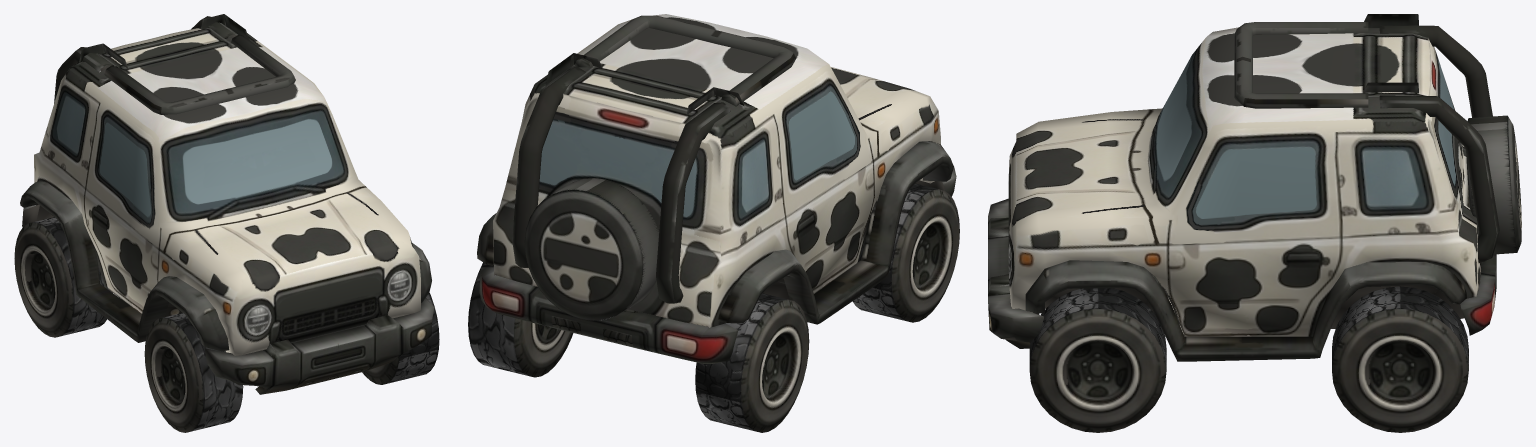
The model's file is Bowler_bulldog.glb.
3 views of the same model, side by side, from view 1: azimuth 30°, elevation 25°; view 2: azimuth 150°, elevation 25°; view 3: azimuth 270°, elevation 25° (orthographic). The views are drawn at different scales.
Visible parts, largest first — view 1: Bowler_buldog_car_body, Front_right, Back_right, Front_left; view 2: Bowler_buldog_car_body, Back_right, Front_right, Back_left; view 3: Bowler_buldog_car_body, Back_left, Front_left.
Part boxes in pixels (<box>): Bowler_buldog_car_body: <box>20,14,434,394</box>; Front_right: <box>144,313,243,432</box>; Back_right: <box>14,217,112,337</box>; Front_left: <box>362,292,439,384</box>; Bowler_buldog_car_body: <box>477,14,956,363</box>; Back_right: <box>695,293,809,432</box>; Front_right: <box>852,183,959,322</box>; Back_left: <box>468,262,573,377</box>; Bowler_buldog_car_body: <box>988,14,1521,361</box>; Back_left: <box>1332,286,1468,432</box>; Front_left: <box>1029,288,1166,432</box>.
Size of the model in its own units: 2.96 by 3.08 by 4.78.
Materials: 2 (2 with a texture image).
